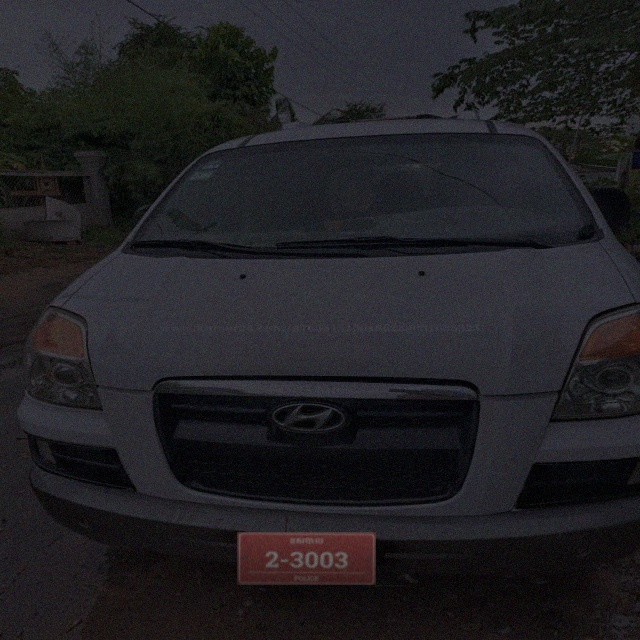Plate Number: (238, 532, 376, 585)
